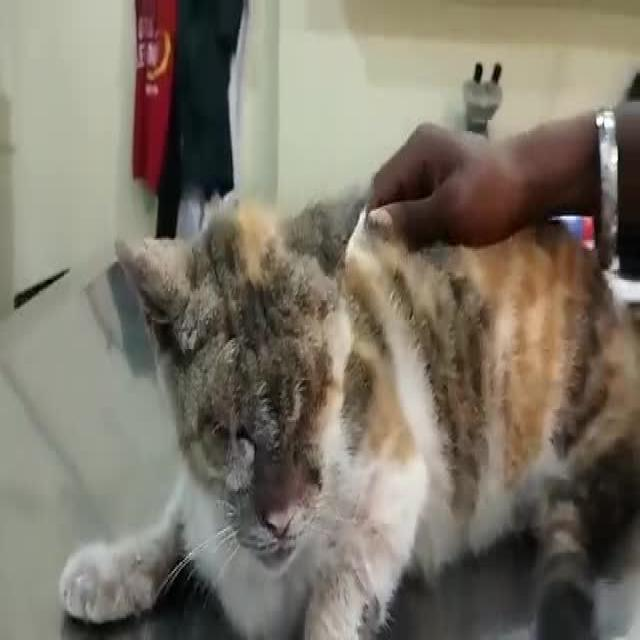cat-scabies: (197, 372, 333, 558), (114, 221, 225, 365), (284, 173, 382, 289)
